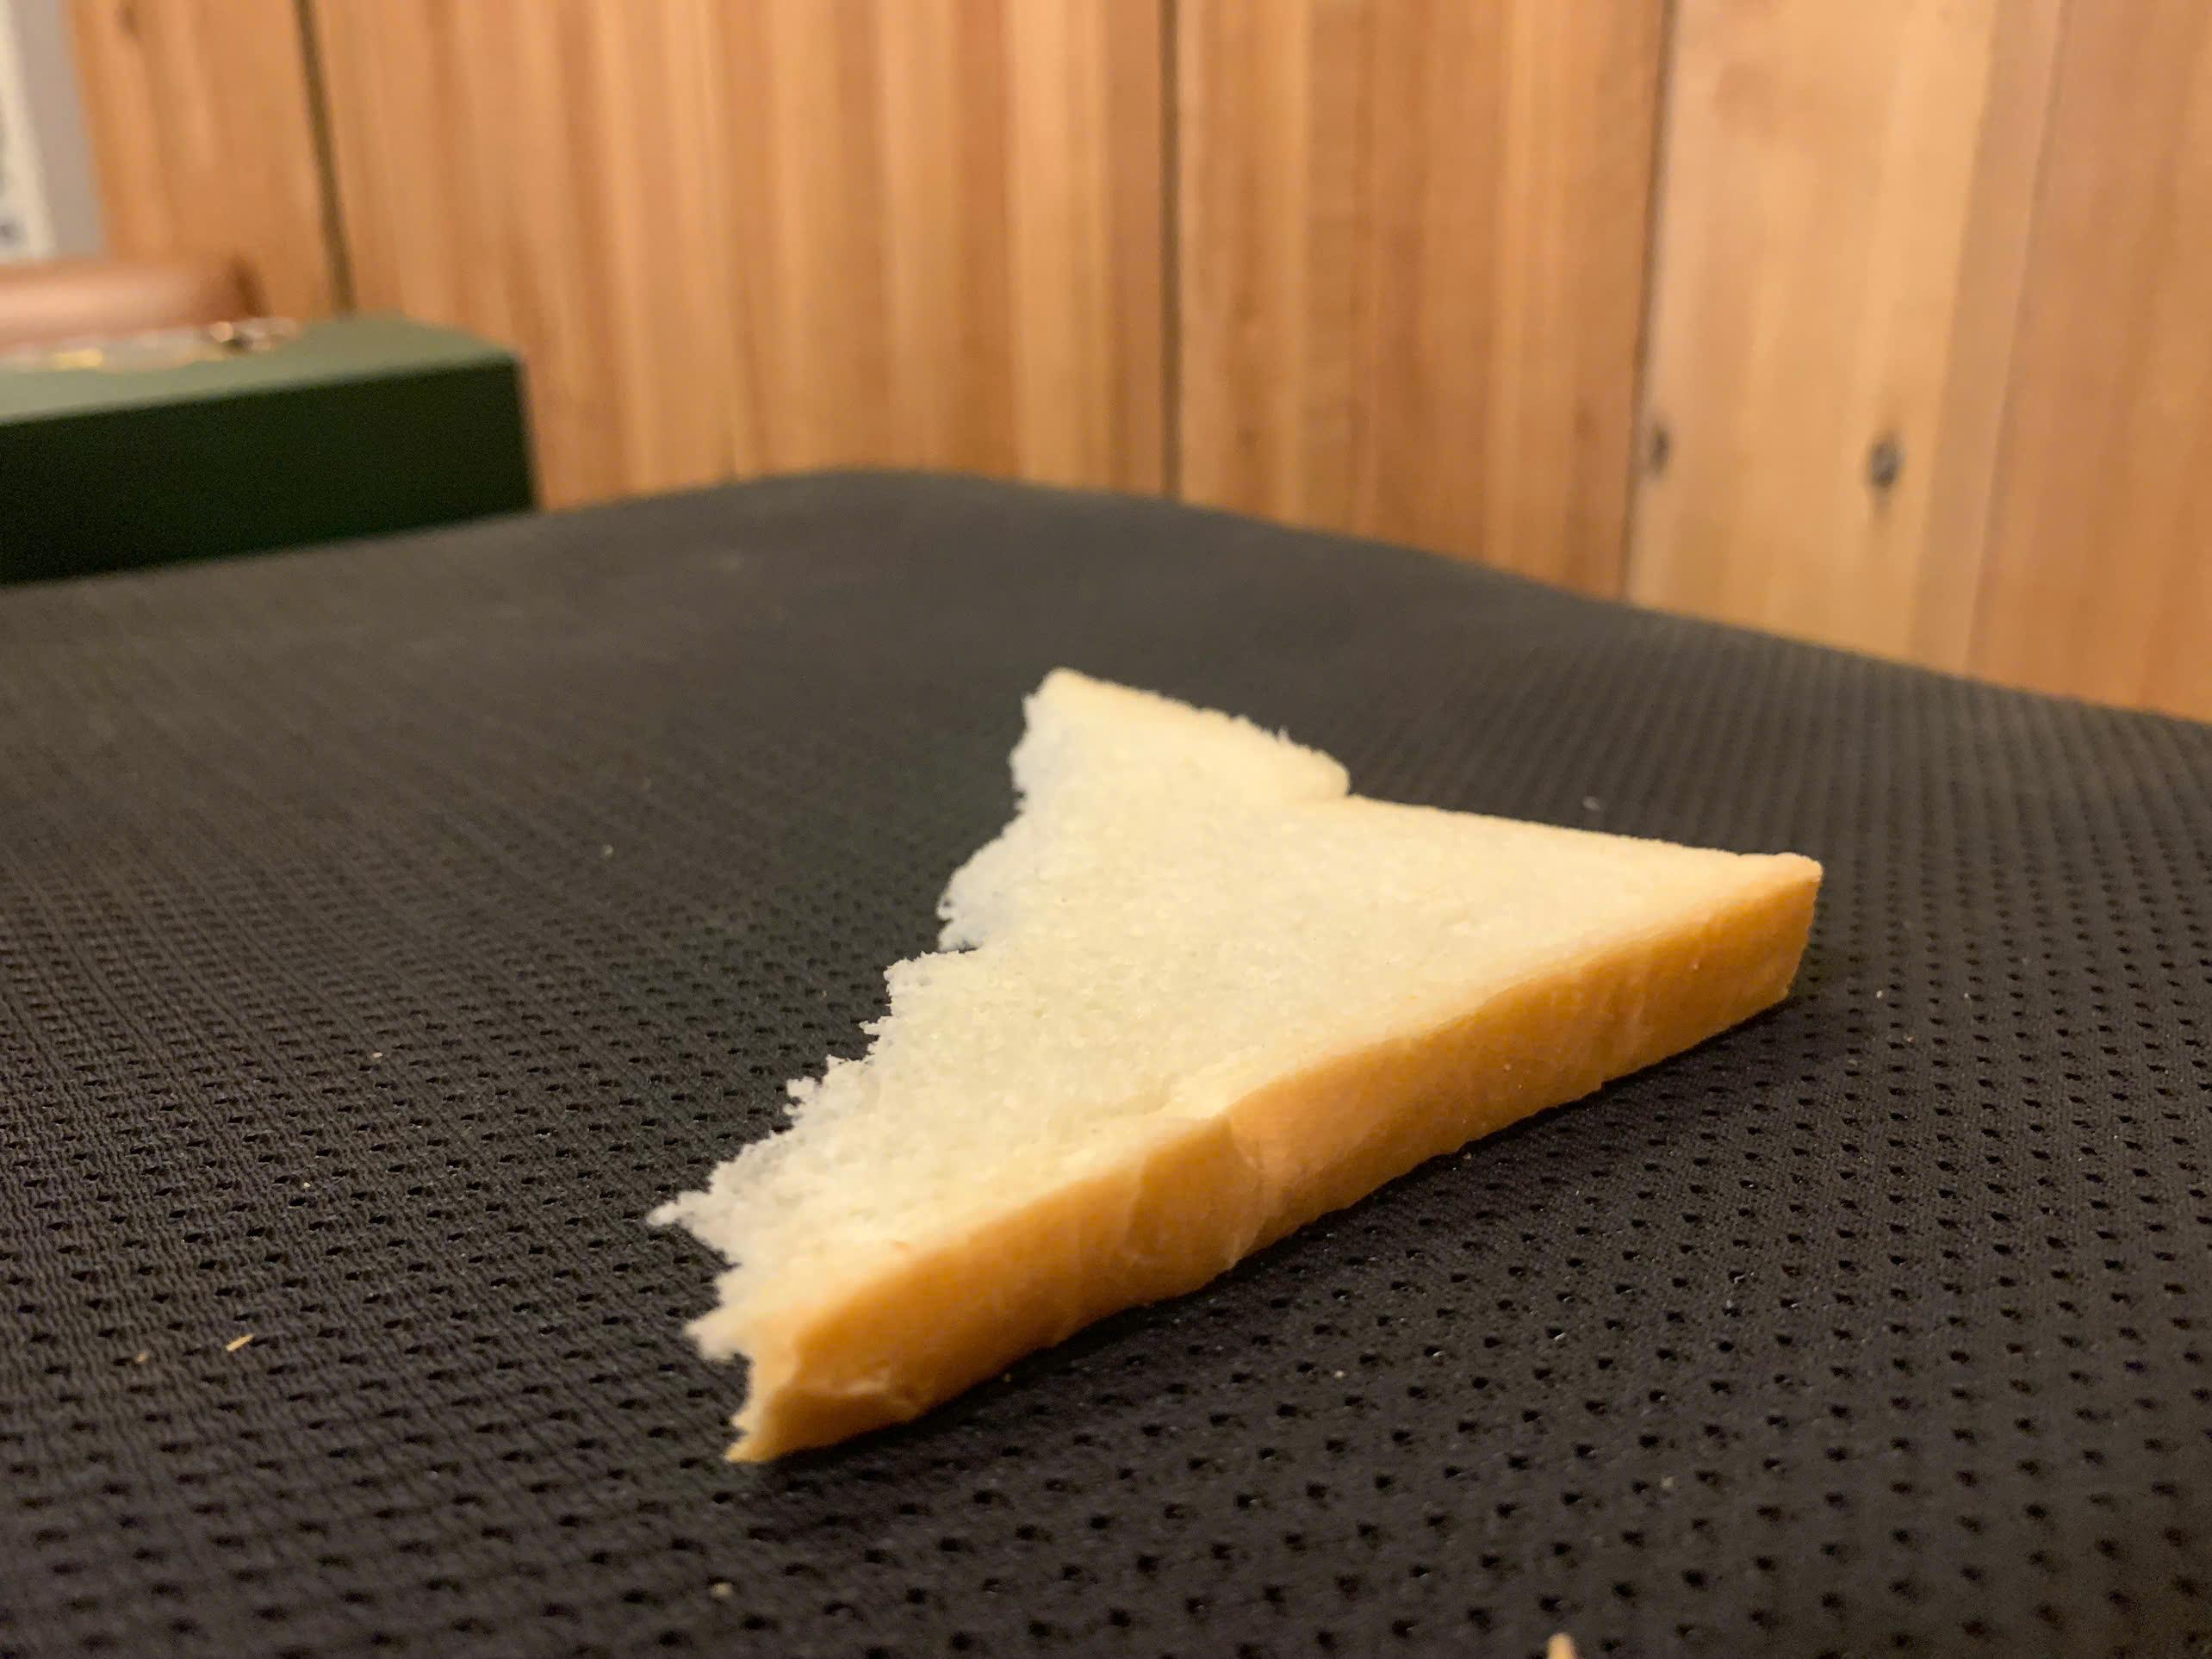Huu co: (690, 664, 1806, 1455)
